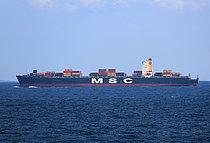Ship: (14, 55, 202, 92)
